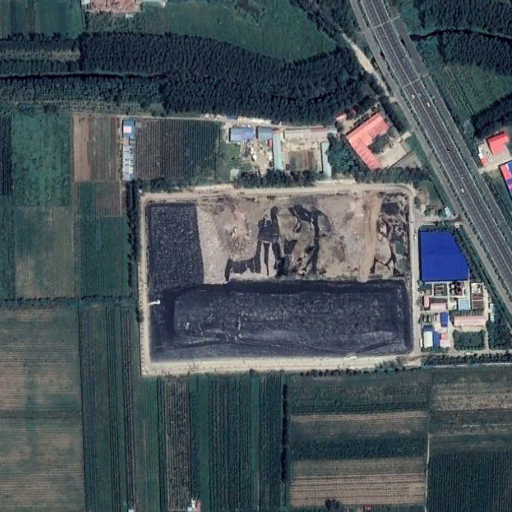lf: (135, 182, 425, 371)
